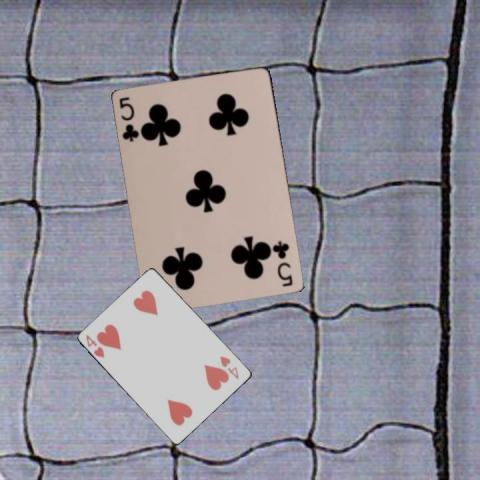4h: (217, 352, 241, 380), (83, 332, 106, 360)
5c: (116, 94, 141, 143), (272, 238, 294, 288)
